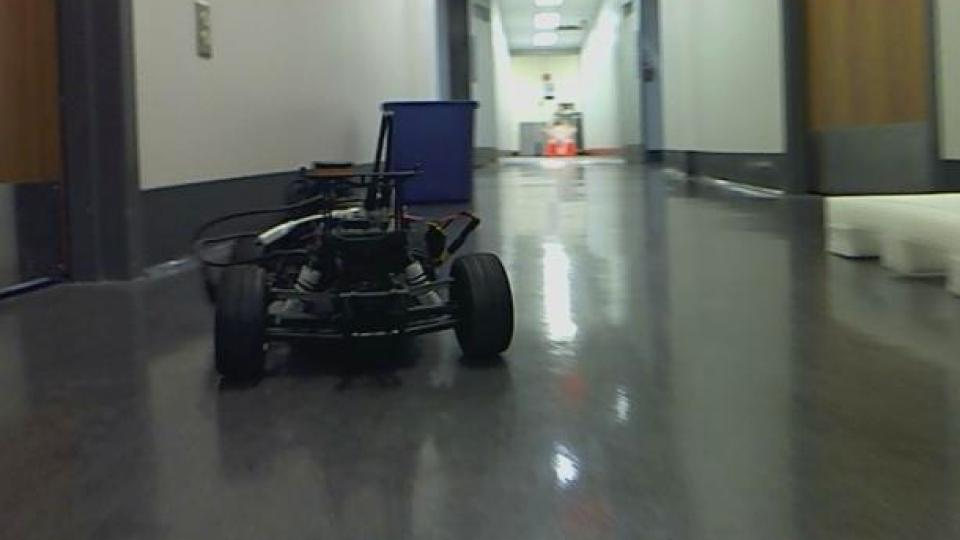car: (189, 105, 518, 389)
